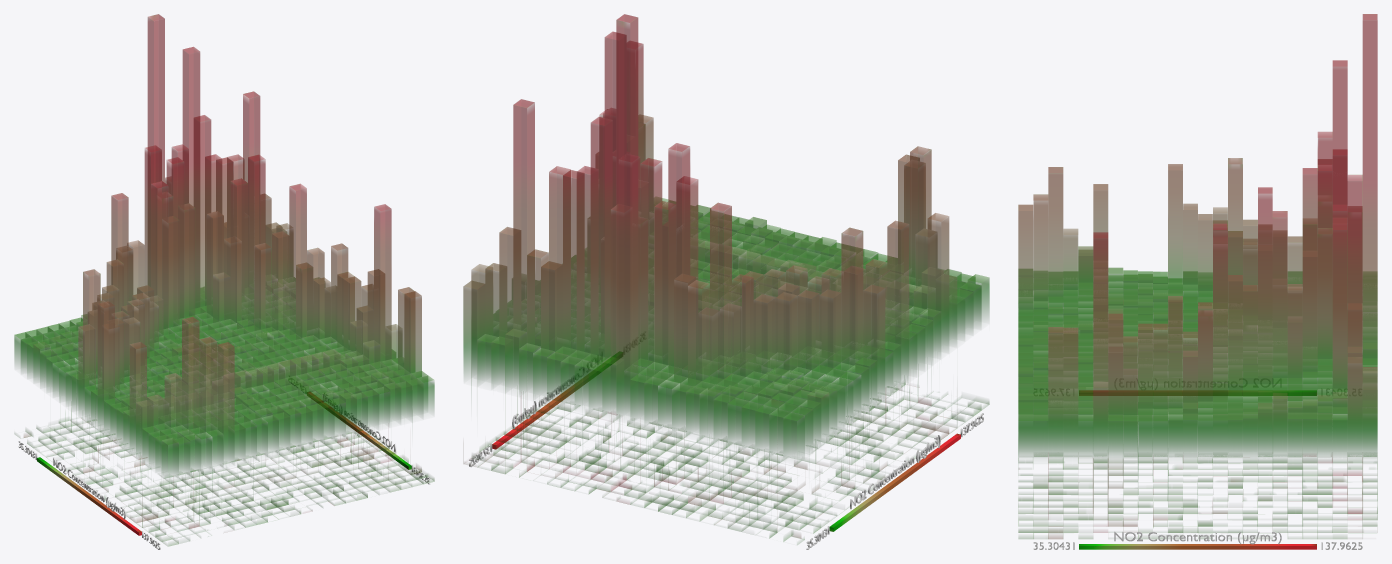
3 renders of one model, left to right at view 1: azimuth 30°, elevation 25°; view 2: azimuth 150°, elevation 25°; view 3: azimuth 270°, elevation 25°, orthographic. The views are drawn at different scales.
Parts seen in each view (by area): view 1: Bars, Cube.002, Cube.001, Text.001; view 2: Bars, Cube.002, Cube.001, Text.001, Text.003; view 3: Bars, Cube.001, Cube.002, Text.003.
Part boxes in pixels (x1,y1,x2,y2): Bars: (14, 14, 434, 546); Cube.002: (37, 457, 141, 535); Cube.001: (307, 392, 411, 469); Text.001: (53, 457, 125, 519); Bars: (463, 14, 989, 544); Cube.002: (829, 433, 960, 531); Cube.001: (492, 352, 622, 449); Text.001: (850, 435, 940, 509); Text.003: (512, 352, 602, 428); Bars: (1018, 14, 1377, 538); Cube.001: (1079, 544, 1316, 549); Cube.002: (1079, 390, 1316, 395); Text.003: (1114, 531, 1281, 544).
Size of the model in its own units: 51.18 by 70.42 by 49.95.
3 materials, 2 textured.
